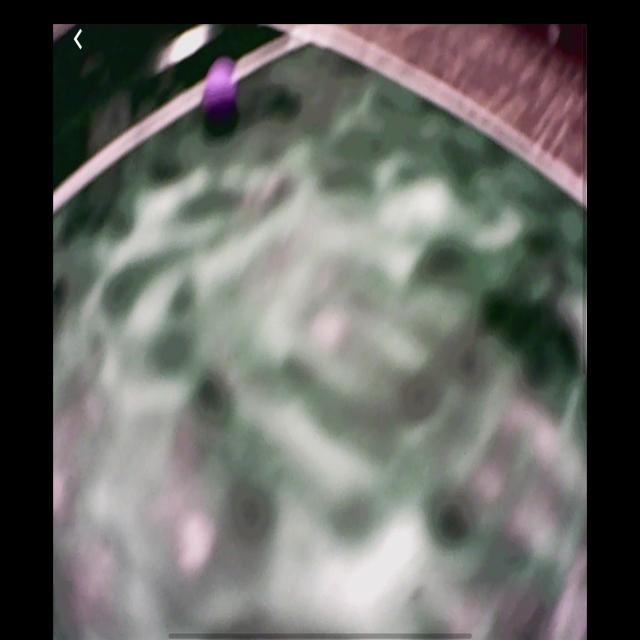ball: (201, 56, 241, 137)
